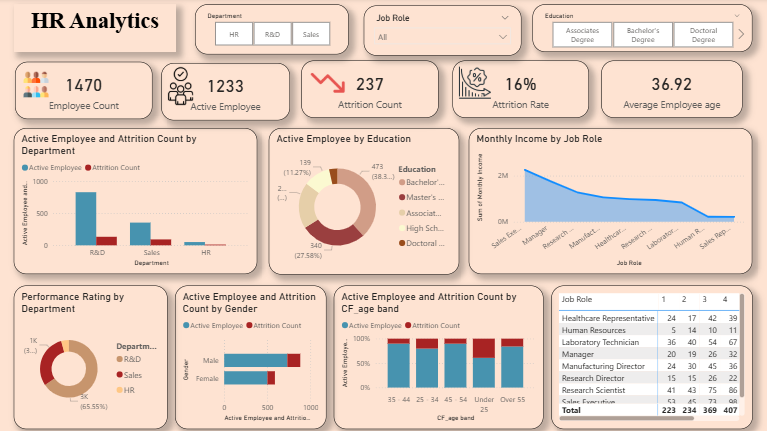

This screenshot's page, from the dashboard's own definition file:
{"tool":"powerbi","page":{"name":"HR Analytics ","canvas":[1280,720],"ordinal":0},"visuals":[{"type":"card","fields":{"Values":["Dax Measure.Attrition Count"]},"box":[499.8,103.7,228.1,95.4],"z":0,"group":"g2"},{"type":"card","fields":{"Values":["Dax Measure.Avg employee age"]},"box":[997.5,103.7,234.3,95.4],"z":0},{"type":"card","fields":{"Values":["Dax Measure.employee count"]},"box":[24.9,105.8,228.1,95.4],"z":0,"group":"g1"},{"type":"textbox","box":[22.3,10.1,269.6,79.1],"z":1000},{"type":"card","fields":{"Values":["Dax Measure.Active employee"]},"box":[267.9,107.8,213.2,95.4],"z":1000,"group":"g3"},{"type":"slicer","fields":{"Values":["HR Data.Department"]},"box":[324.3,10.1,255.4,83.1],"z":2000},{"type":"card","fields":{"Values":["Dax Measure.Attrition rate"]},"box":[750.7,103.7,226,95.4],"z":2000,"group":"g4"},{"type":"slicer","fields":{"Values":["HR Data.Job Role"]},"box":[604.1,12.2,261.5,83.1],"z":3000},{"type":"slicer","fields":{"Values":["HR Data.Education"]},"box":[883.8,10.1,364.9,79.1],"z":4000},{"type":"clusteredColumnChart","fields":{"Category":["HR Data.Department"],"Y":["Dax Measure.Active employee","Dax Measure.Attrition Count"]},"box":[22.8,215.7,404.4,242.6],"z":5000},{"type":"donutChart","fields":{"Category":["HR Data.Education"],"Y":["Dax Measure.Active employee"]},"box":[444.9,214.9,316.2,243.3],"z":6000},{"type":"areaChart","title":"Monthly Income by Job Role","fields":{"Category":["HR Data.Job Role"],"Y":["Sum(HR Data.Monthly Income)"]},"box":[777.7,215.7,470.8,242.6],"z":7000},{"type":"donutChart","title":" Performance Rating by Department","fields":{"Category":["HR Data.Department"],"Y":["Sum(HR Data.Performance Rating)"]},"box":[22.8,477,255.1,238.5],"z":8000},{"type":"barChart","fields":{"Category":["HR Data.Gender"],"Y":["Dax Measure.Active employee","Dax Measure.Attrition Count"]},"box":[290.3,477,250.9,238.5],"z":9000},{"type":"hundredPercentStackedColumnChart","fields":{"Category":["HR Data.CF_age band"],"Y":["Dax Measure.Active employee","Dax Measure.Attrition Count"]},"box":[553.9,476.7,347.7,238.3],"z":10000},{"type":"pivotTable","fields":{"Rows":["HR Data.Job Role"],"Columns":["HR Data.Job Satisfaction"],"Values":["Dax Measure.Active employee"]},"box":[914,477,334,238],"z":11000},{"type":"group","id":"g1","title":"Group 1","box":[24.9,105.8,228.1,95.4],"z":12000},{"type":"group","id":"g2","title":"Group 2","box":[499.8,103.7,228.1,95.4],"z":13000},{"type":"group","id":"g3","title":"Group 3","box":[253,107.8,228.1,95.4],"z":14000},{"type":"image","box":[30,121.4,61.9,42.1],"z":14001,"group":"g1"},{"type":"image","box":[509.2,107.4,67.2,65.9],"z":14003,"group":"g2"},{"type":"image","box":[253,113.7,93.7,63.6],"z":14005,"group":"g3"},{"type":"image","box":[750.7,112.8,74.5,56.8],"z":14007,"group":"g4"},{"type":"group","id":"g4","title":"Group 4","box":[750.7,103.7,226,95.4],"z":15000}]}

Visuals, with their boxes in screenshot pixels (x1, y1, x2, y2), scaled from the page's 1280x720 canvas onto the 767x431 screenshot:
card - Dax Measure.Attrition Count: rect(299, 62, 436, 119)
card - Dax Measure.Avg employee age: rect(598, 62, 738, 119)
card - Dax Measure.employee count: rect(15, 63, 152, 120)
textbox: rect(13, 6, 175, 53)
card - Dax Measure.Active employee: rect(161, 65, 288, 122)
slicer - HR Data.Department: rect(194, 6, 347, 56)
card - Dax Measure.Attrition rate: rect(450, 62, 585, 119)
slicer - HR Data.Job Role: rect(362, 7, 519, 57)
slicer - HR Data.Education: rect(530, 6, 748, 53)
clusteredColumnChart - HR Data.Department x Dax Measure.Active employee: rect(14, 129, 256, 274)
donutChart - HR Data.Education x Dax Measure.Active employee: rect(267, 129, 456, 274)
"Monthly Income by Job Role" areaChart: rect(466, 129, 748, 274)
" Performance Rating by Department" donutChart: rect(14, 286, 167, 428)
barChart - HR Data.Gender x Dax Measure.Active employee: rect(174, 286, 324, 428)
hundredPercentStackedColumnChart - HR Data.CF_age band x Dax Measure.Active employee: rect(332, 285, 540, 428)
pivotTable - HR Data.Job Role x HR Data.Job Satisfaction: rect(548, 286, 748, 428)
"Group 1" group: rect(15, 63, 152, 120)
"Group 2" group: rect(299, 62, 436, 119)
"Group 3" group: rect(152, 65, 288, 122)
image: rect(18, 73, 55, 98)
image: rect(305, 64, 345, 104)
image: rect(152, 68, 208, 106)
image: rect(450, 68, 494, 102)
"Group 4" group: rect(450, 62, 585, 119)
